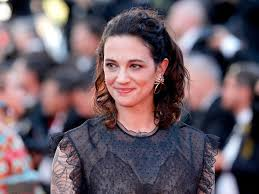middle_eastern_Female: (95, 15, 176, 109)
